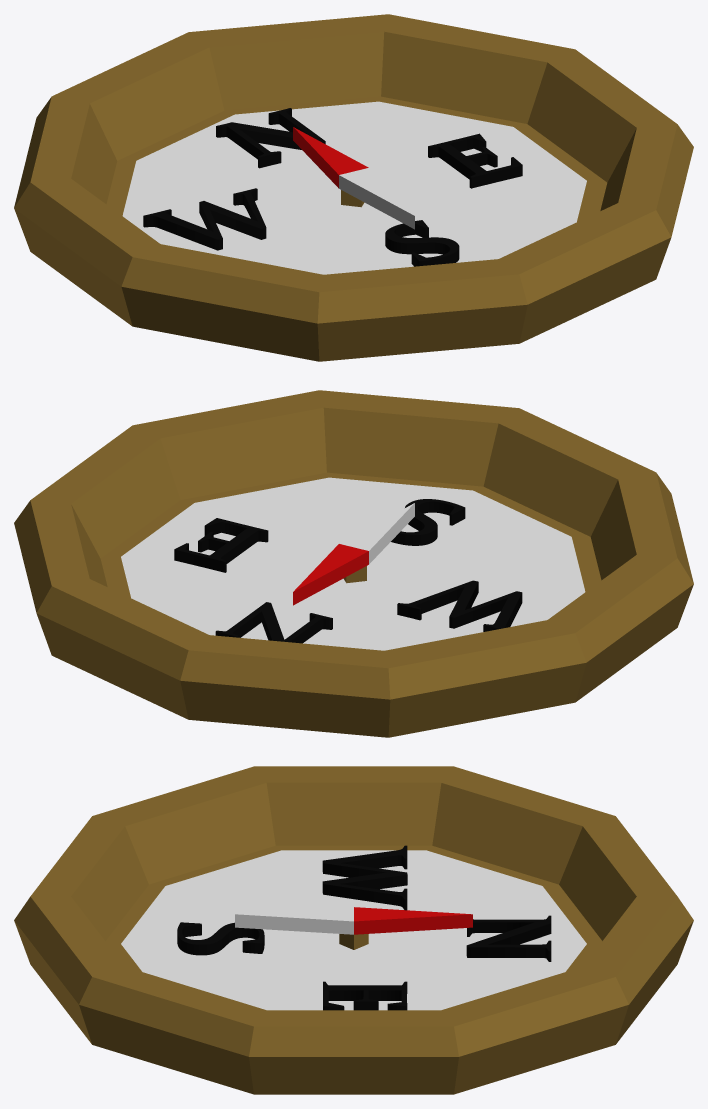
The model's file is Compass.glb.
The picture shows the model from 3 angles, top to bottom: view 1: azimuth 30°, elevation 25°; view 2: azimuth 150°, elevation 25°; view 3: azimuth 270°, elevation 25°; orthographic projection. The views are drawn at different scales.
Visible parts, largest first — view 1: Cylinder, Spinner, Text.003, Text.001, Text, Text.002; view 2: Cylinder, Spinner, Text.003, Text, Text.001, Text.002; view 3: Cylinder, Spinner, Text.003, Text.001, Text, Text.002.
Part boxes in pixels (x1=…): Cylinder: x1=14, y1=14, x2=693, y2=361; Spinner: x1=122, y1=101, x2=586, y2=274; Text.003: x1=143, y1=188, x2=266, y2=250; Text.001: x1=216, y1=108, x2=325, y2=168; Text: x1=428, y1=133, x2=522, y2=188; Text.002: x1=385, y1=220, x2=459, y2=266; Cylinder: x1=14, y1=390, x2=693, y2=737; Spinner: x1=121, y1=477, x2=585, y2=650; Text.003: x1=397, y1=580, x2=522, y2=631; Text: x1=174, y1=518, x2=268, y2=572; Text.001: x1=215, y1=602, x2=332, y2=643; Text.002: x1=391, y1=499, x2=465, y2=545; Cylinder: x1=14, y1=766, x2=693, y2=1094; Spinner: x1=121, y1=850, x2=586, y2=1010; Text.003: x1=322, y1=845, x2=407, y2=910; Text.001: x1=466, y1=915, x2=551, y2=961; Text: x1=323, y1=981, x2=407, y2=1010; Text.002: x1=177, y1=922, x2=264, y2=955.
Size of the model in its own units: 1.9 by 0.2206 by 2.
